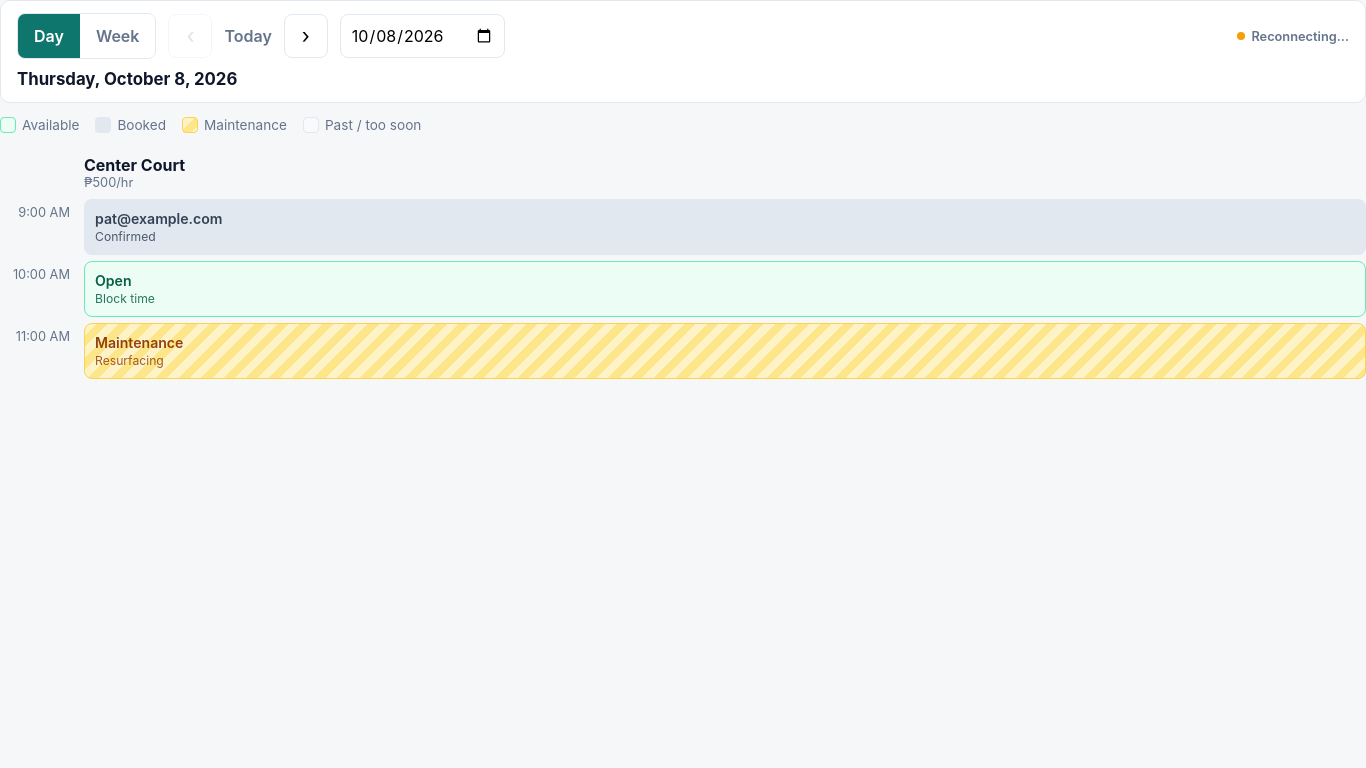
owner view › blocks an open slot for maintenance
Click the button "Open Block time". click: point(113, 280)
box: [84,261,1365,317]
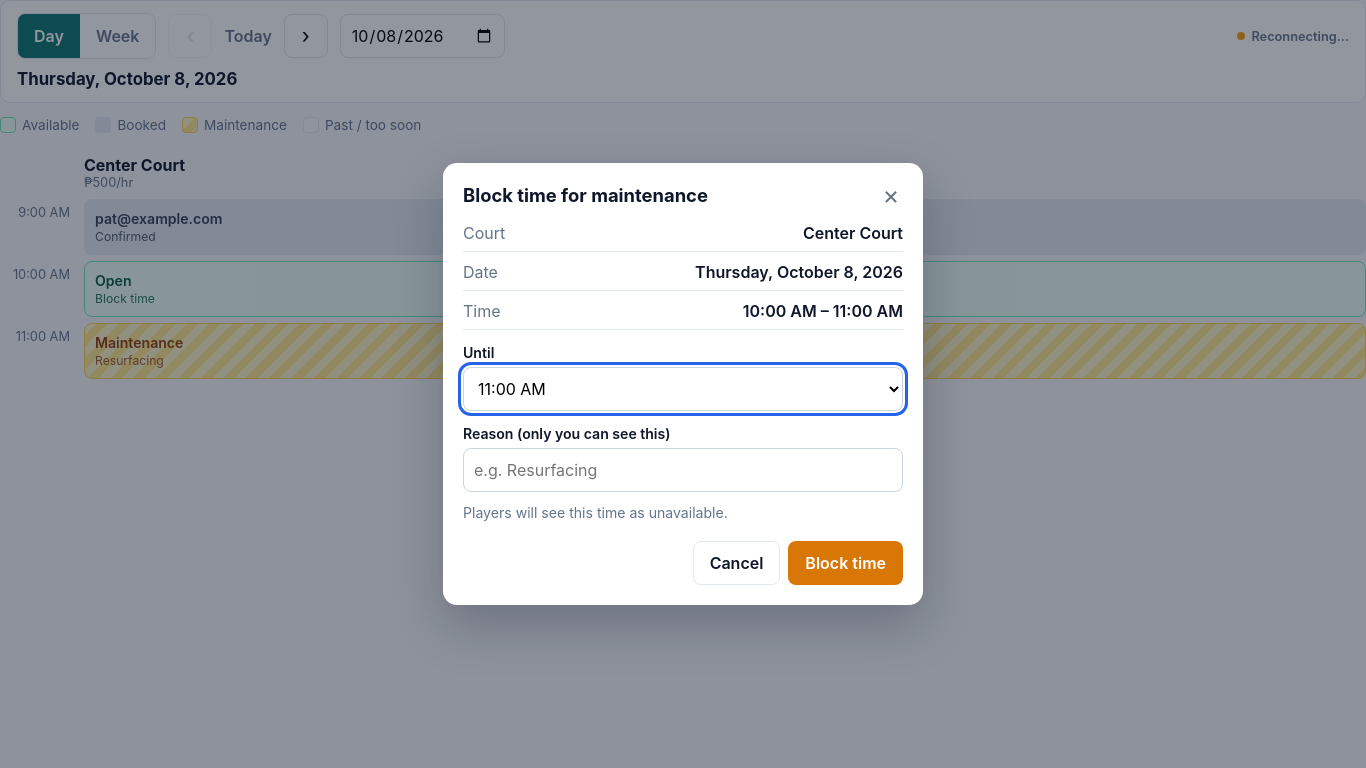
Type "Net repair" into the field labelled "Reason (only you can see this)". click: point(683, 470)
box: [463,448,903,492]
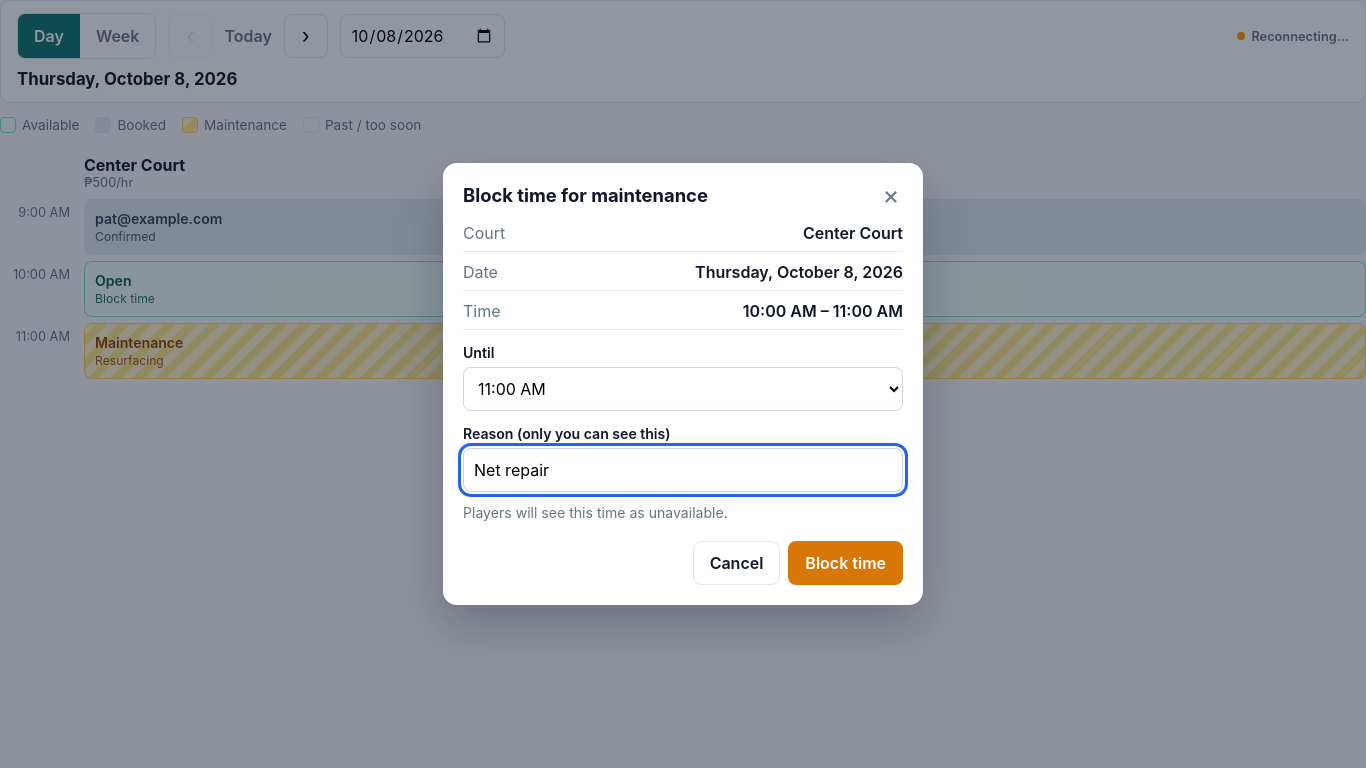
Click the button "Block time". click: point(846, 563)
box: [788,541,903,585]
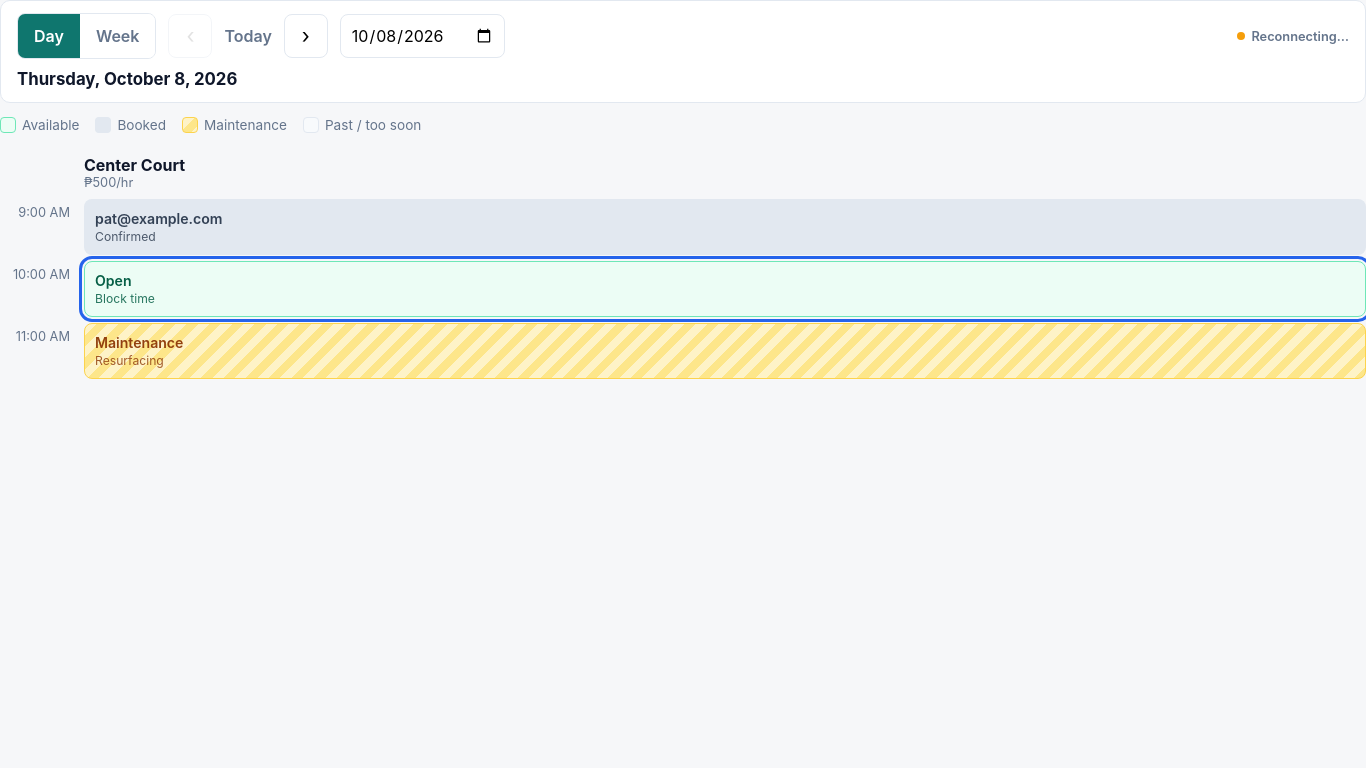
Expected: the dialog is gone
